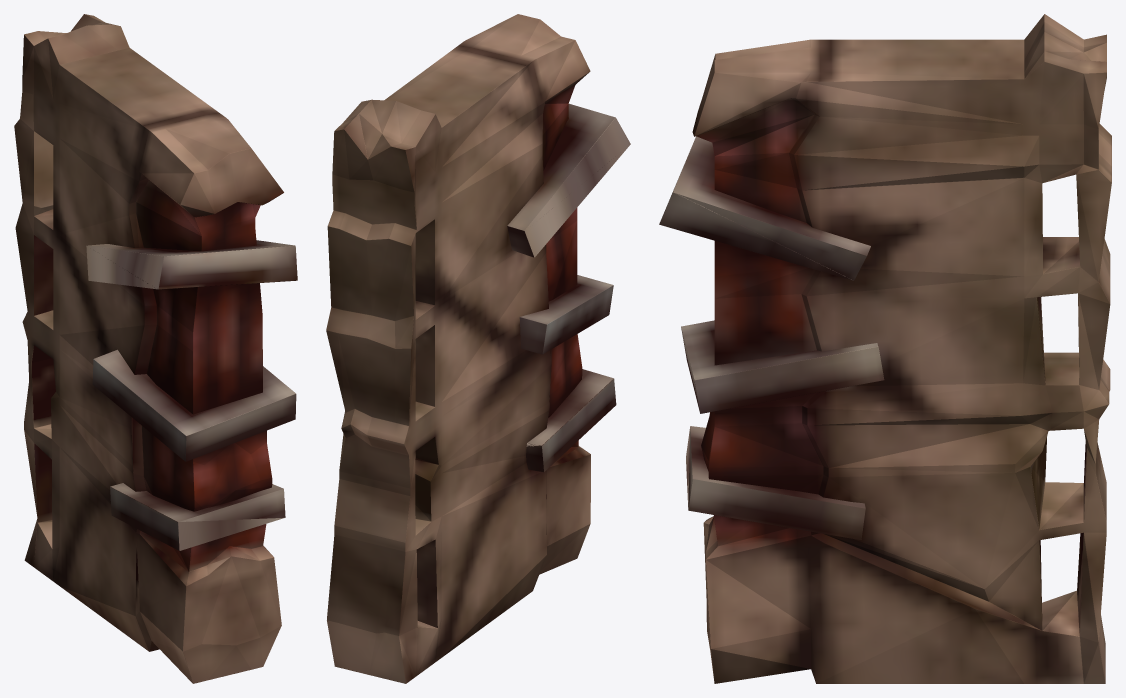
File: Sheild.fbx
3 views of the same model, side by side, from view 1: azimuth 30°, elevation 25°; view 2: azimuth 150°, elevation 25°; view 3: azimuth 270°, elevation 25° (orthographic). The views are drawn at different scales.
Parts seen in each view (by area): view 1: Cube; view 2: Cube; view 3: Cube.
Part boxes in pixels (x1,y1,x2,y2): Cube: (14,14,297,683); Cube: (326,14,630,683); Cube: (659,14,1111,683).
Bounding box in the file's own units: 124 × 463 × 300.
